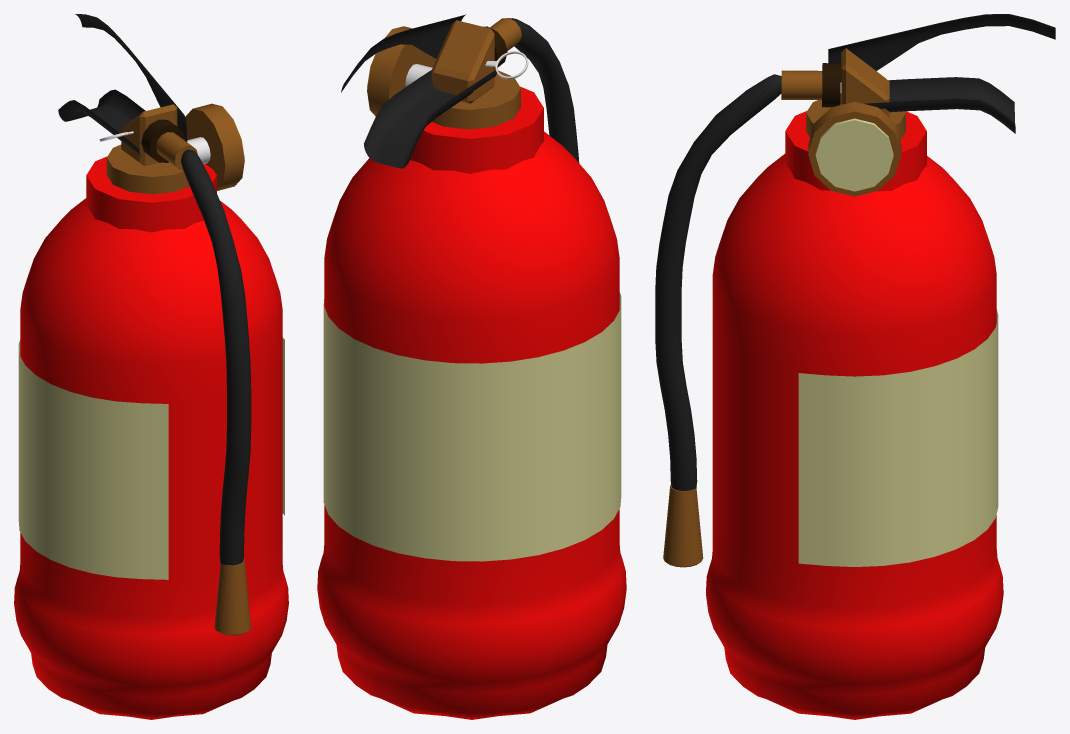
The model's file is extinguisherNomal.FBX.
3 views of the same model, side by side, from view 1: azimuth 30°, elevation 25°; view 2: azimuth 150°, elevation 25°; view 3: azimuth 270°, elevation 25° (orthographic). The views are drawn at different scales.
Visible parts, largest first — view 1: Cylinder001, Cylinder010, Cylinder011, Cylinder002, Cylinder008, Cylinder004, Cylinder012, Line001, Box001, Line002, Cylinder005, Cylinder006; view 2: Cylinder001, Cylinder010, Cylinder002, Line001, Box001, Cylinder011, Cylinder004, Cylinder008, Line002, Cylinder006; view 3: Cylinder001, Cylinder010, Cylinder011, Cylinder009, Line001, Line002, Cylinder002, Cylinder008, Cylinder012, Box001, Cylinder006, Cylinder005 (+1 smaller).
Boxes of the visible parts, x1,y1,x2,y2 form: Cylinder001: (14,198,288,719); Cylinder010: (18,337,284,579); Cylinder011: (181,149,251,565); Cylinder002: (86,156,216,232); Cylinder008: (185,103,244,190); Cylinder004: (106,144,189,194); Cylinder012: (214,559,250,635); Line001: (58,89,145,156); Box001: (121,104,177,165); Line002: (75,14,187,141); Cylinder005: (141,119,185,162); Cylinder006: (156,132,197,170); Cylinder001: (317,131,626,719); Cylinder010: (323,292,621,561); Cylinder002: (410,86,543,173); Line001: (364,70,496,168); Box001: (431,20,494,103); Cylinder011: (509,18,579,162); Cylinder004: (432,69,520,129); Cylinder008: (367,26,436,116); Line002: (341,14,465,92); Cylinder006: (490,18,521,50); Cylinder001: (706,154,1003,719); Cylinder010: (798,309,998,566); Cylinder011: (655,74,781,490); Cylinder009: (815,118,893,191); Line001: (864,77,1015,133); Line002: (828,14,1055,81); Cylinder002: (785,111,926,191); Cylinder008: (808,101,901,196); Cylinder012: (663,484,703,567); Box001: (841,48,889,117); Cylinder006: (781,70,822,99); Cylinder005: (822,63,840,107).
Bounding box in the file's own units: 66.63 × 164 × 89.6.
